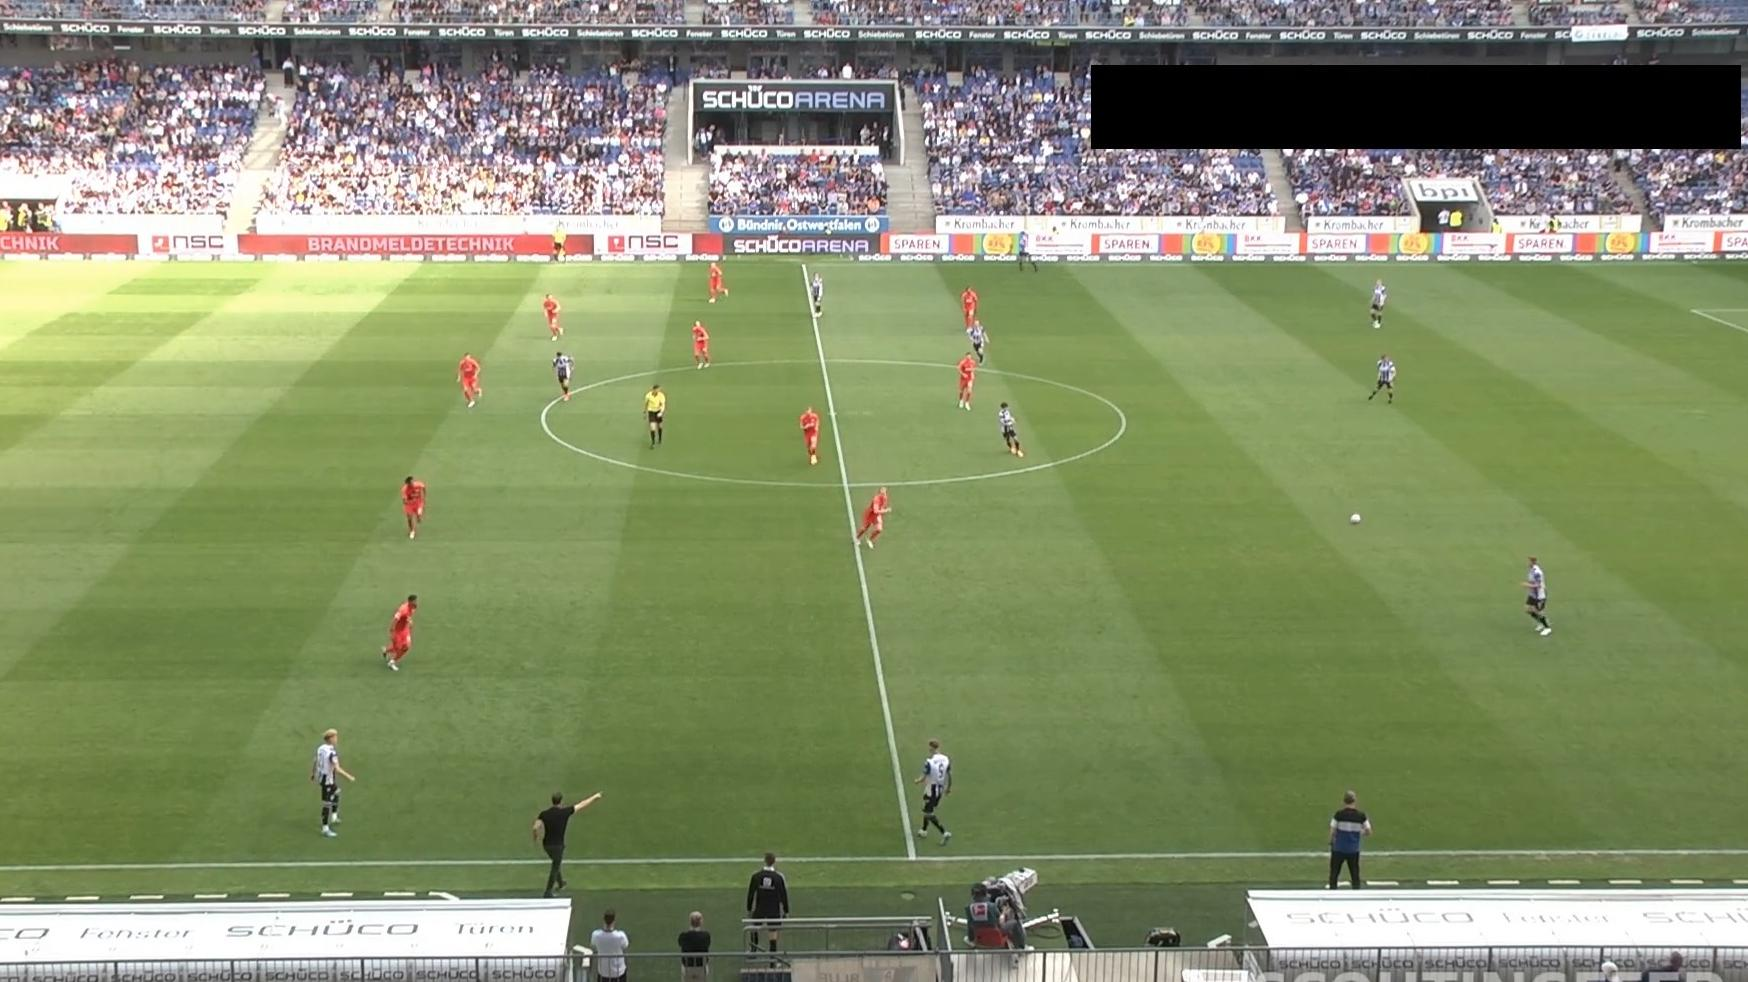ball: (1350, 512, 1362, 525)
